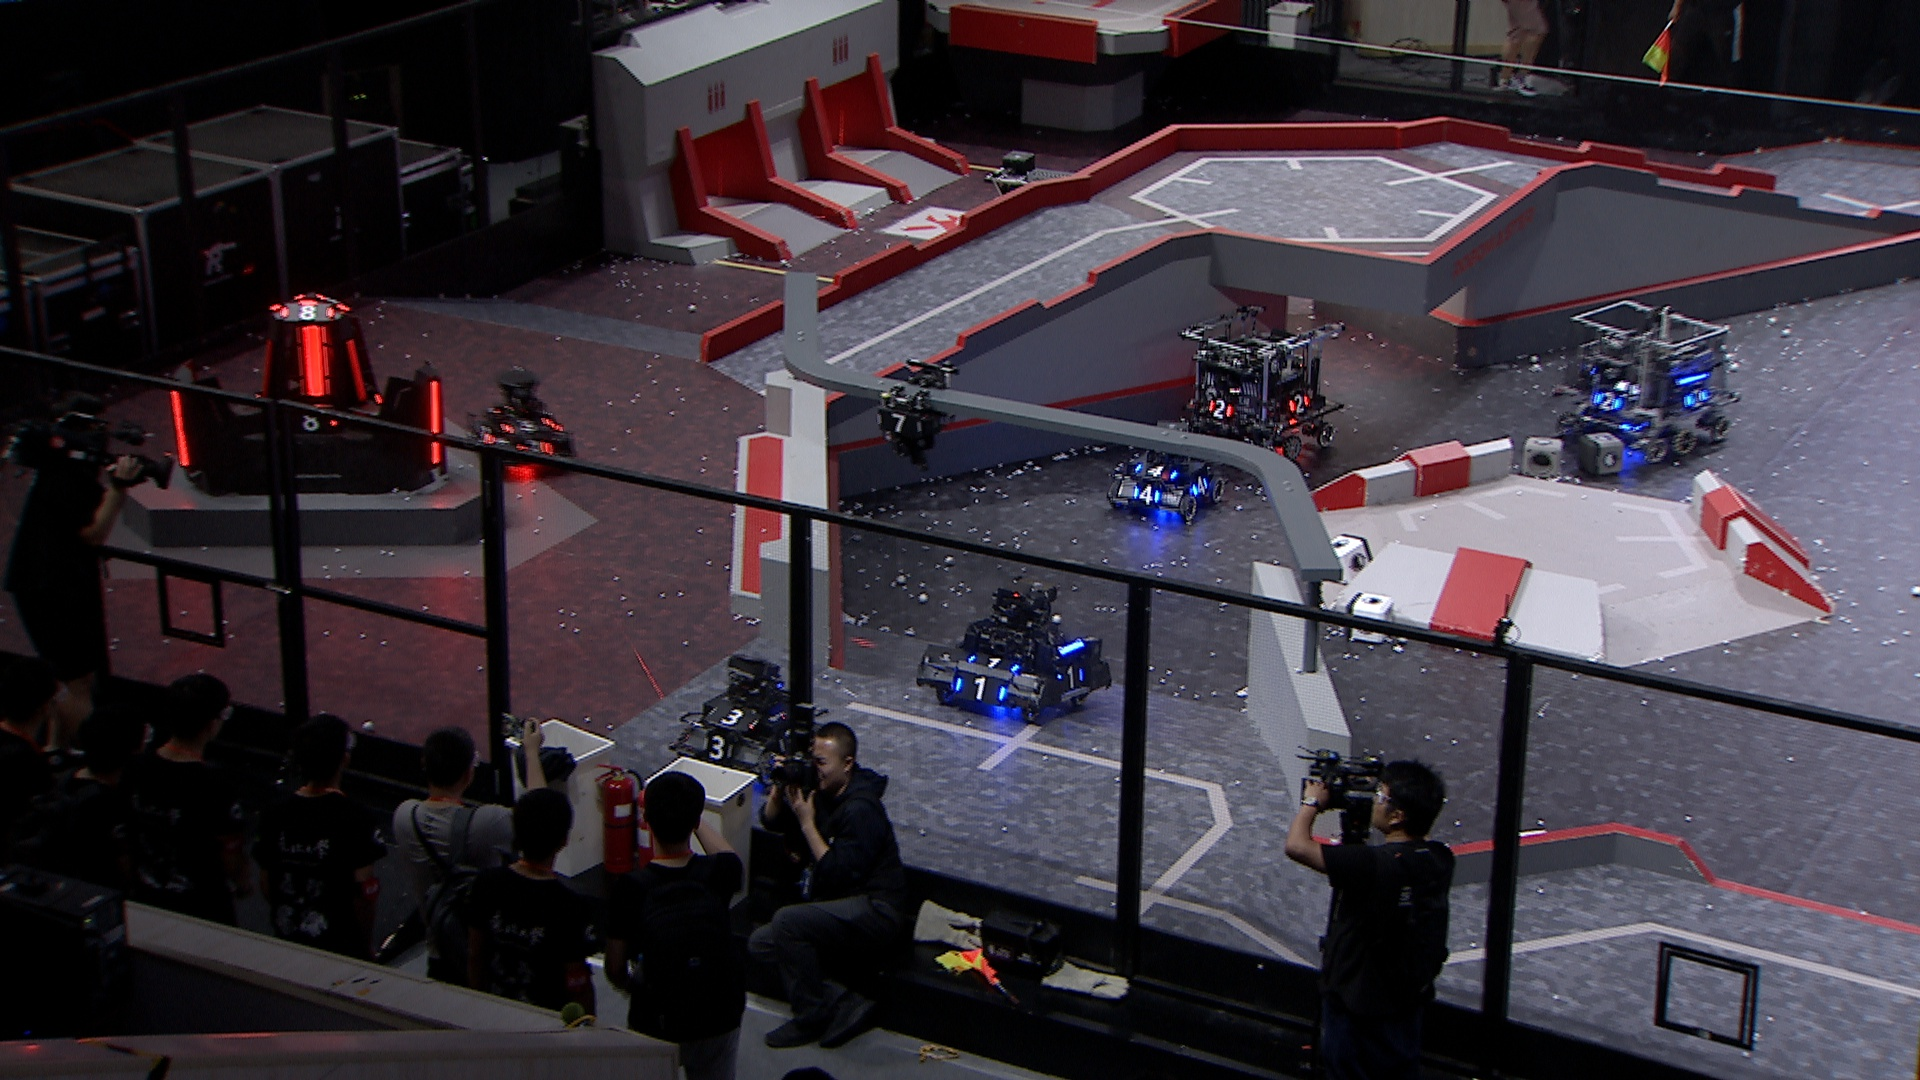armor: (294, 324, 334, 400), (167, 386, 193, 469), (425, 377, 446, 465), (344, 338, 371, 401), (953, 675, 1010, 704), (707, 702, 761, 728), (278, 301, 338, 324), (873, 410, 924, 436), (964, 651, 1025, 673), (498, 414, 553, 434), (699, 735, 738, 761), (290, 411, 339, 433), (1134, 462, 1179, 483), (258, 338, 273, 400), (512, 438, 555, 458), (1054, 665, 1087, 690), (1681, 385, 1712, 410), (1130, 481, 1162, 504), (469, 425, 496, 448), (1593, 392, 1623, 411), (1287, 392, 1309, 417), (1209, 398, 1233, 419), (1191, 473, 1211, 498)
base: (164, 290, 447, 493)
car: (1544, 297, 1746, 465), (918, 576, 1112, 727), (1178, 301, 1346, 463), (670, 651, 829, 789), (1109, 417, 1228, 526), (462, 363, 574, 472)
watcher: (868, 356, 961, 475)
